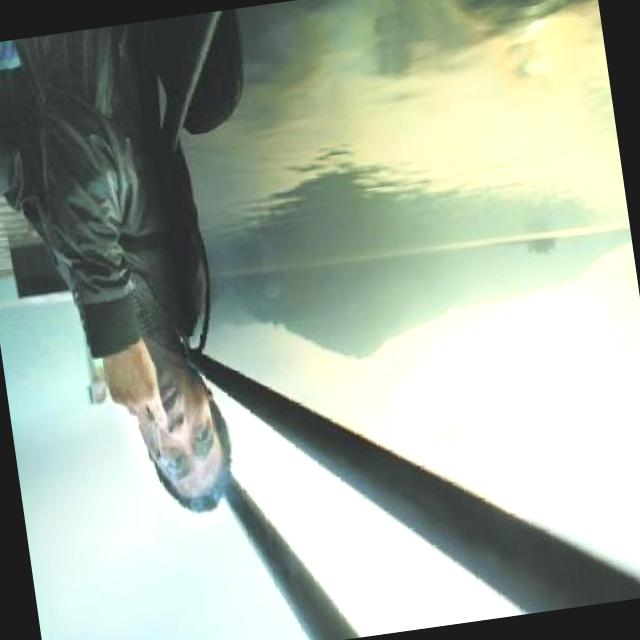smoke: (150, 416, 165, 464)
